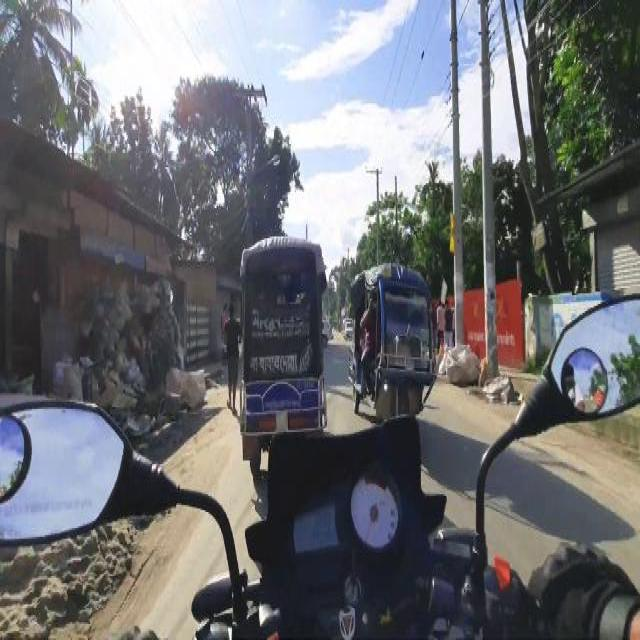10: (3, 366, 639, 638)
15: (322, 318, 332, 347)
5: (342, 319, 352, 339)
Car: (240, 235, 328, 473), (350, 267, 440, 416)
